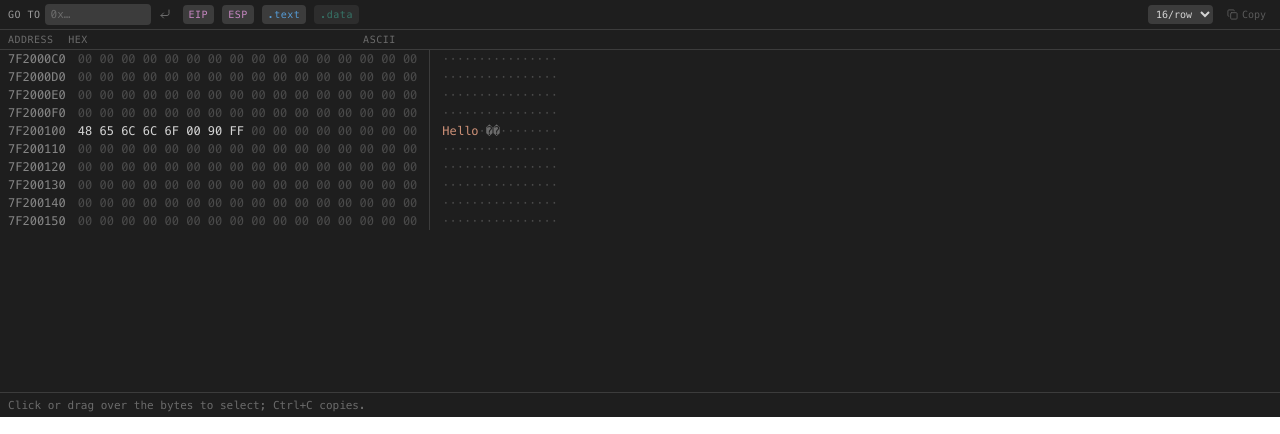
Scenario: shift+clique estende a selecao a partir da ancora
Press the mouse on the text "48" at (85, 130), box [78,122,92,140]
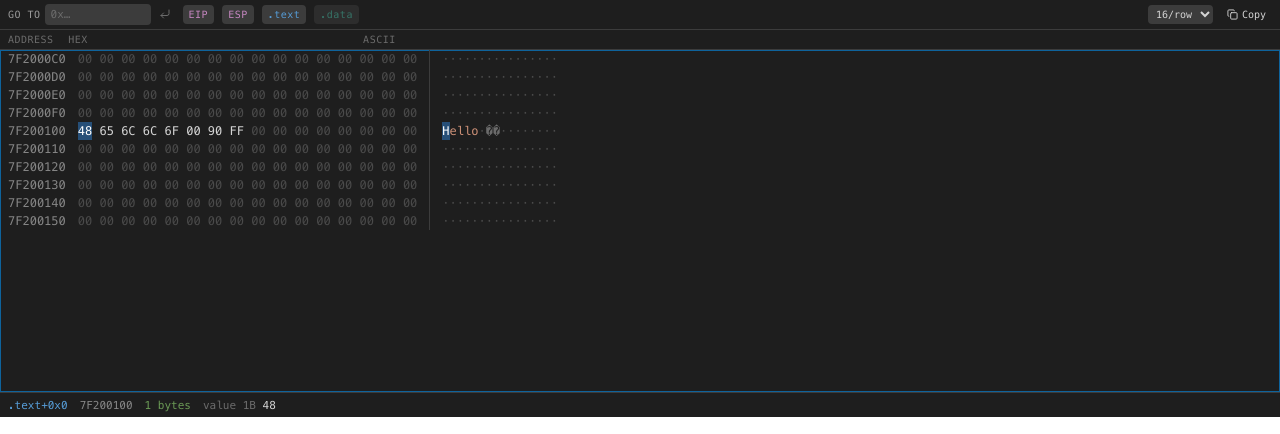
Press the mouse on the 2nd text "6C" at (150, 130), box [143,122,157,140]
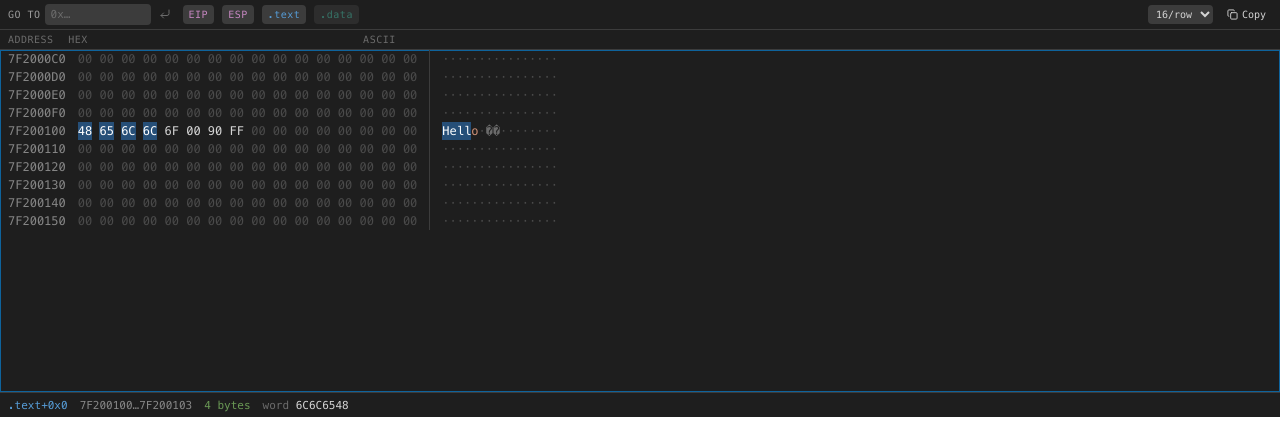
expect the footer shows "4 bytes": met, box [0,392,1279,417]
